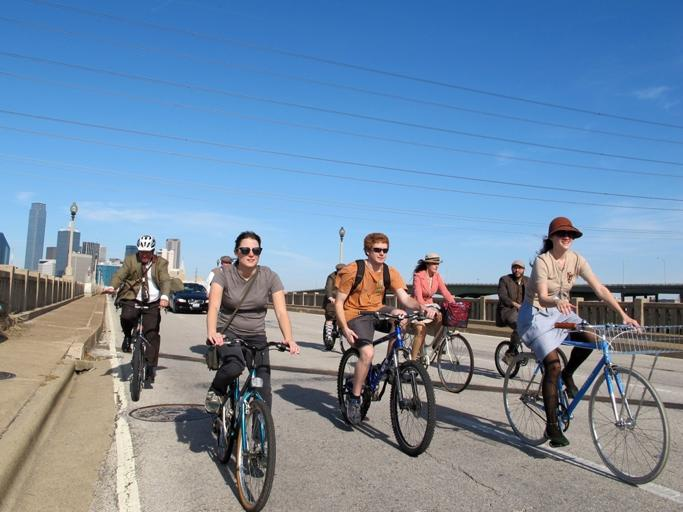non-vehicle: (499, 318, 682, 487), (334, 308, 446, 455), (203, 339, 296, 512), (393, 298, 474, 393), (112, 294, 169, 400), (493, 316, 571, 379), (321, 304, 363, 357)
